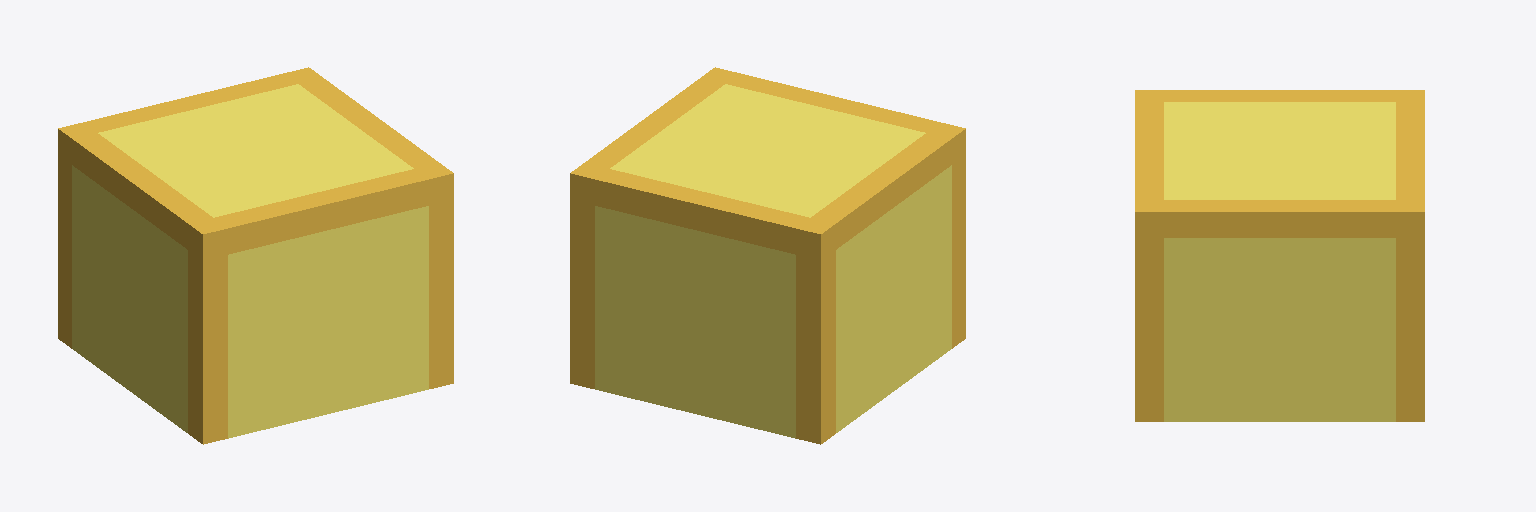
The picture shows the model from 3 angles: view 1: azimuth 30°, elevation 25°; view 2: azimuth 150°, elevation 25°; view 3: azimuth 270°, elevation 25°; orthographic projection.
Parts seen in each view (by area): view 1: object 1; view 2: object 1; view 3: object 1.
Boxes of the visible parts, x1=… form: object 1: x1=58, y1=67, x2=453, y2=444; object 1: x1=570, y1=67, x2=965, y2=444; object 1: x1=1135, y1=90, x2=1424, y2=421.
Bounding box in the file's own units: 2 × 1.6 × 2.
1 materials, 1 textured.